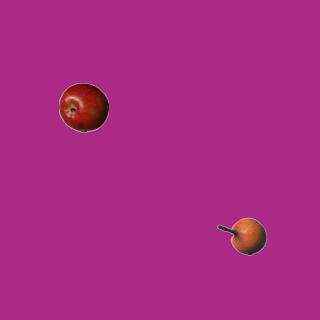Apple Braeburn: (58, 82, 108, 132)
Granadilla: (216, 211, 266, 261)
